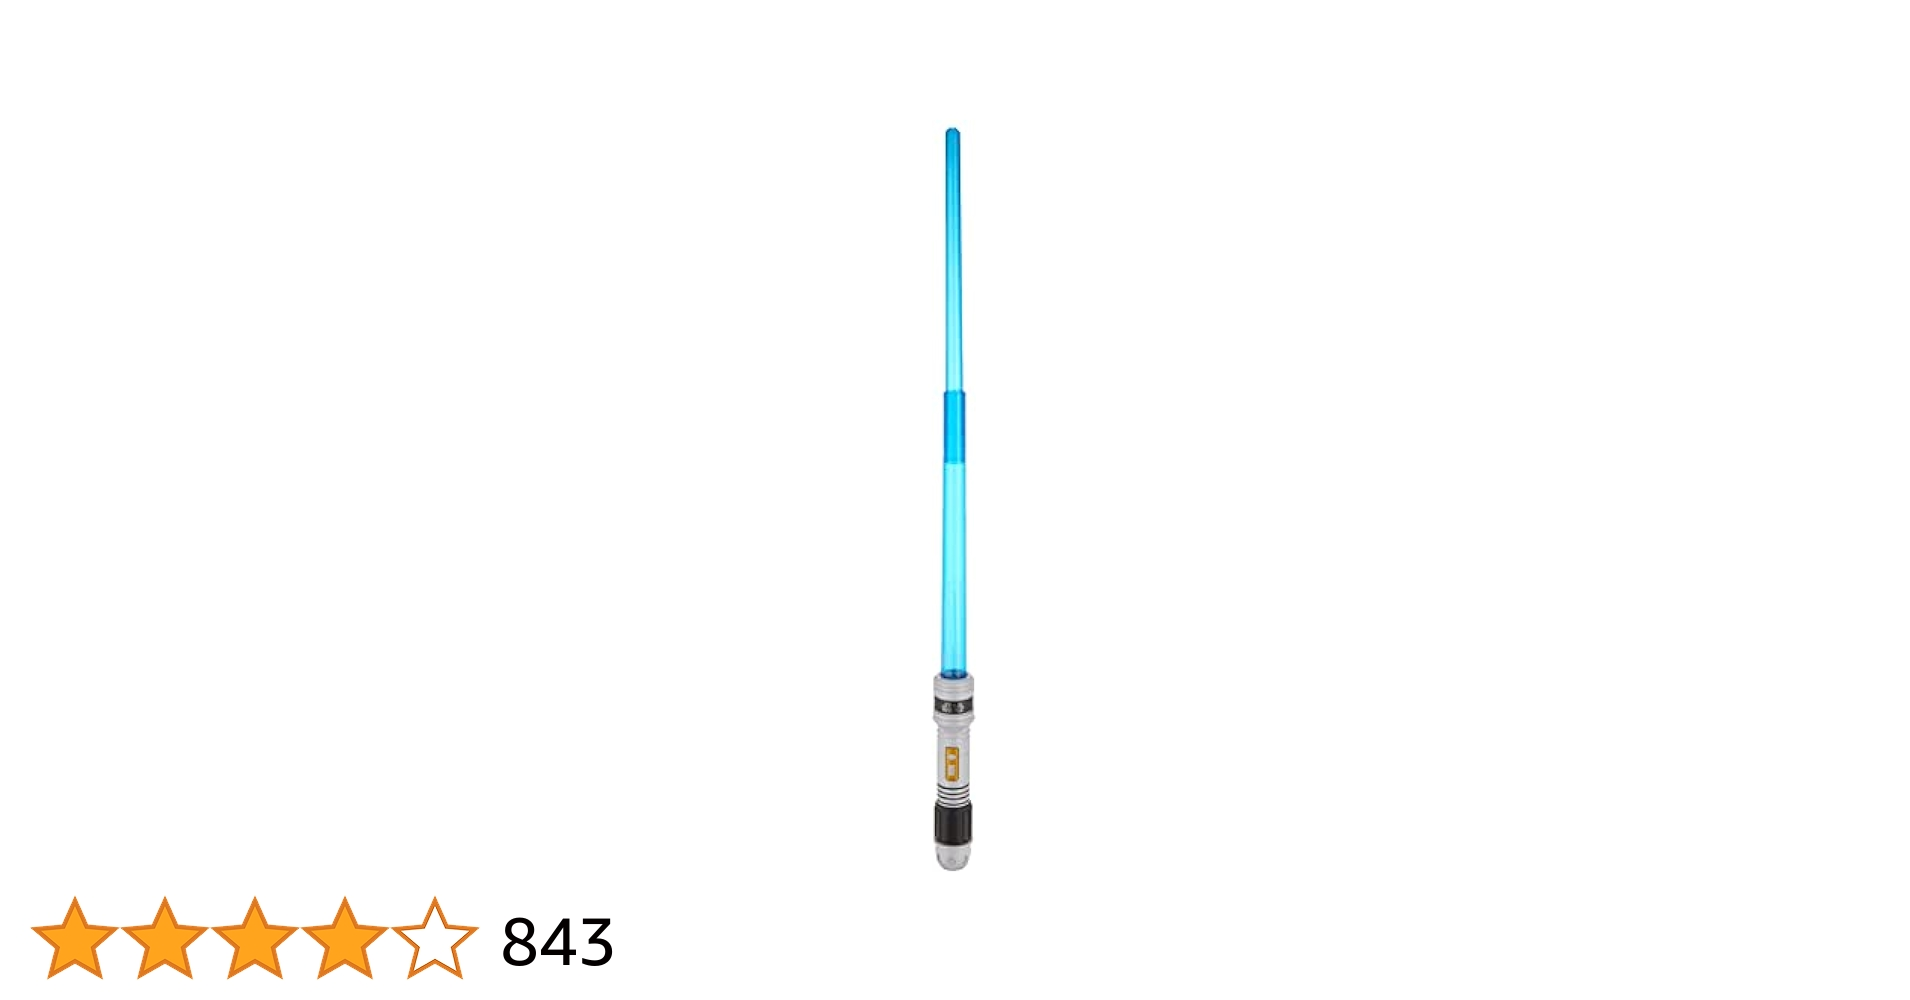lightsaber: (877, 62, 1033, 942)
